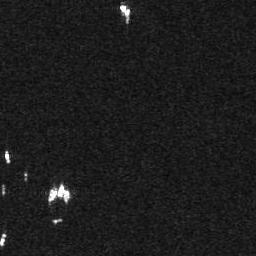ship: (48, 187, 57, 205), (57, 182, 64, 201), (120, 4, 131, 16), (64, 187, 70, 205), (1, 233, 9, 245), (4, 150, 11, 163)
